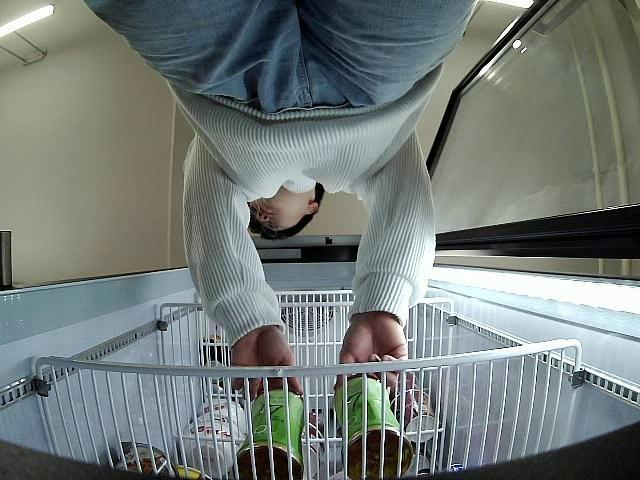19_17cha: (332, 372, 413, 480), (233, 386, 306, 480)
